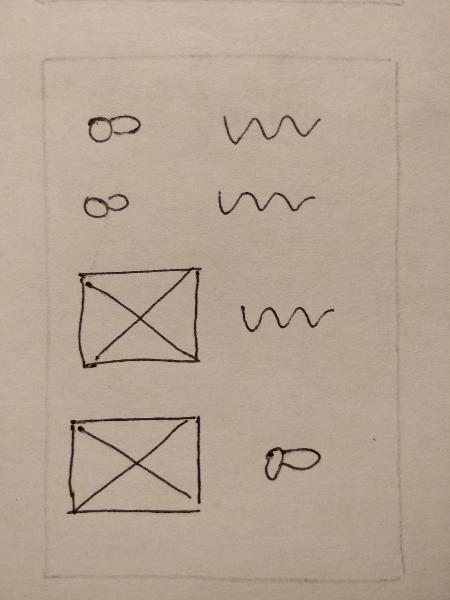image: (58, 409, 213, 526), (71, 257, 220, 378)
switch: (247, 426, 330, 490), (75, 97, 152, 148), (73, 177, 139, 226)
text: (227, 287, 340, 344), (207, 104, 338, 152), (205, 179, 328, 224)
